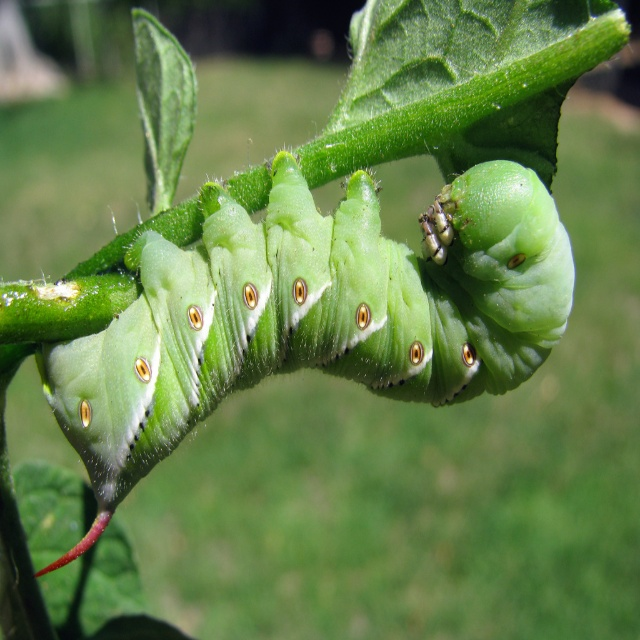Caterpillar: (31, 142, 575, 579)
